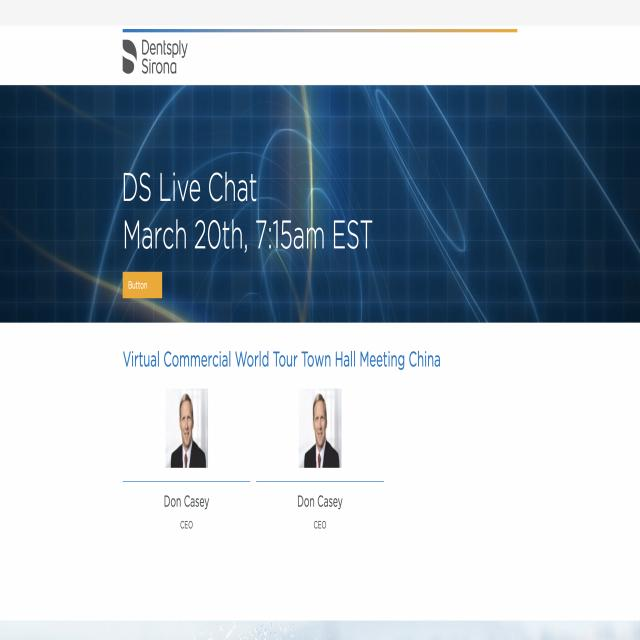Logo: (122, 26, 194, 81)
